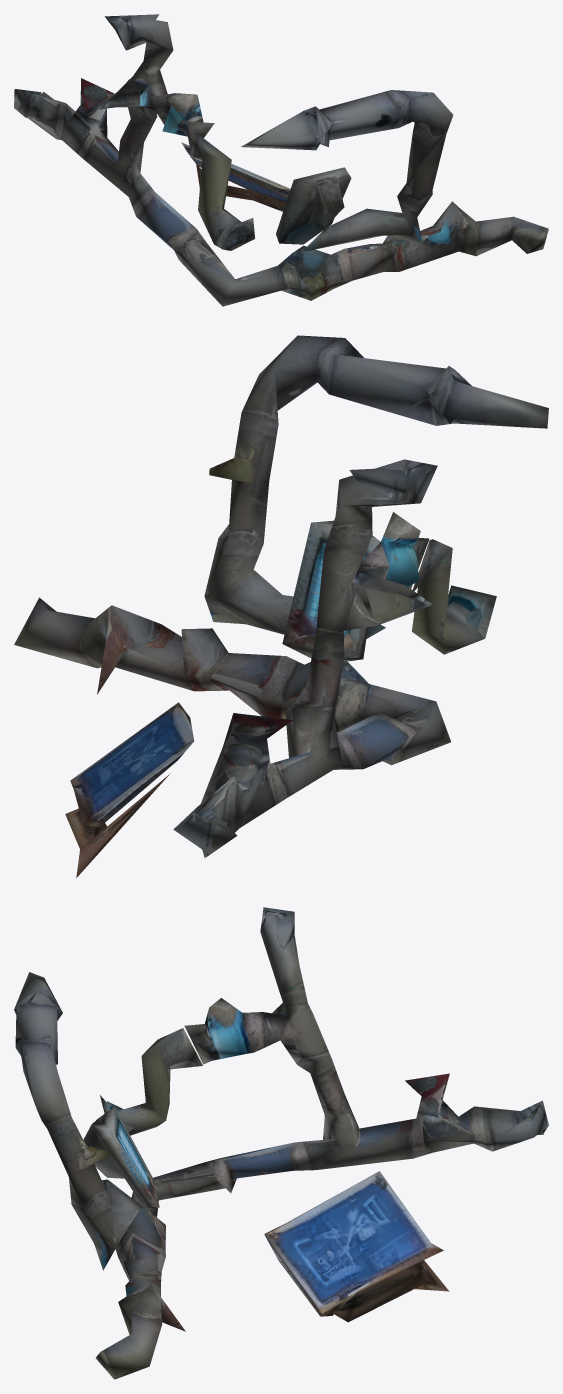
File: tripo_convert_e0598cb9-7cda-4714-808c-f0dda6a9f41d.fbx
The picture shows the model from 3 angles, top to bottom: view 1: azimuth 30°, elevation 25°; view 2: azimuth 150°, elevation 25°; view 3: azimuth 270°, elevation 25°; orthographic projection. The views are drawn at different scales.
Visible parts, largest first — view 1: tripo_node_e0598cb9; view 2: tripo_node_e0598cb9; view 3: tripo_node_e0598cb9.
Part boxes in pixels (<box>): tripo_node_e0598cb9: <box>14,14,548,306</box>; tripo_node_e0598cb9: <box>14,335,548,877</box>; tripo_node_e0598cb9: <box>14,907,548,1379</box>.
Size of the model in its own units: 0.8206 by 0.5906 by 0.9607.
1 material, 1 textured.
